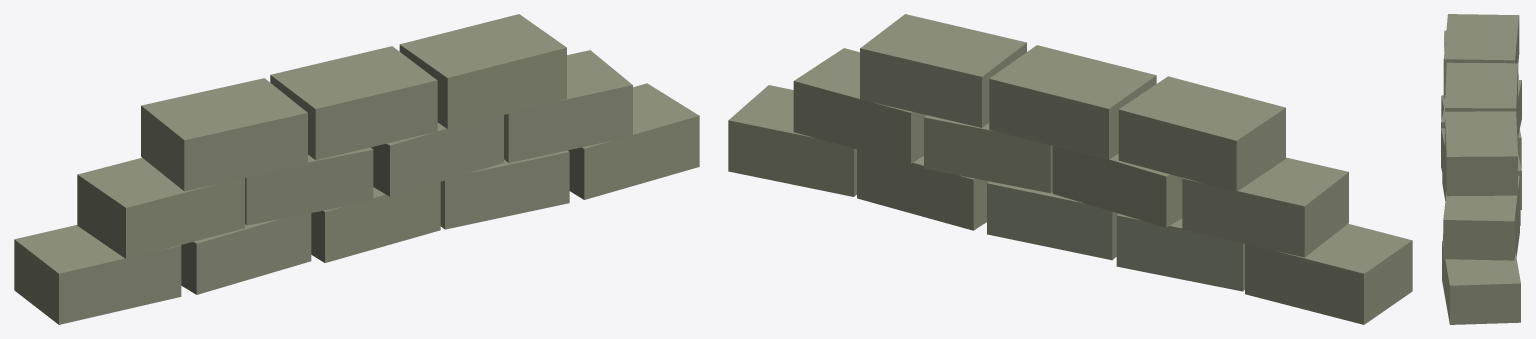
Rendered from sandbags.glb.
3 views of the same model, side by side, from view 1: azimuth 30°, elevation 25°; view 2: azimuth 150°, elevation 25°; view 3: azimuth 270°, elevation 25° (orthographic). The views are drawn at different scales.
Visible parts, largest first — view 1: Sandbags; view 2: Sandbags; view 3: Sandbags.
Part boxes in pixels (box(x1,y1,x2,y2)): Sandbags: box(14, 14, 699, 324); Sandbags: box(728, 14, 1412, 324); Sandbags: box(1441, 14, 1521, 324).
Size of the model in its own units: 2.23 by 0.51 by 0.3172.
